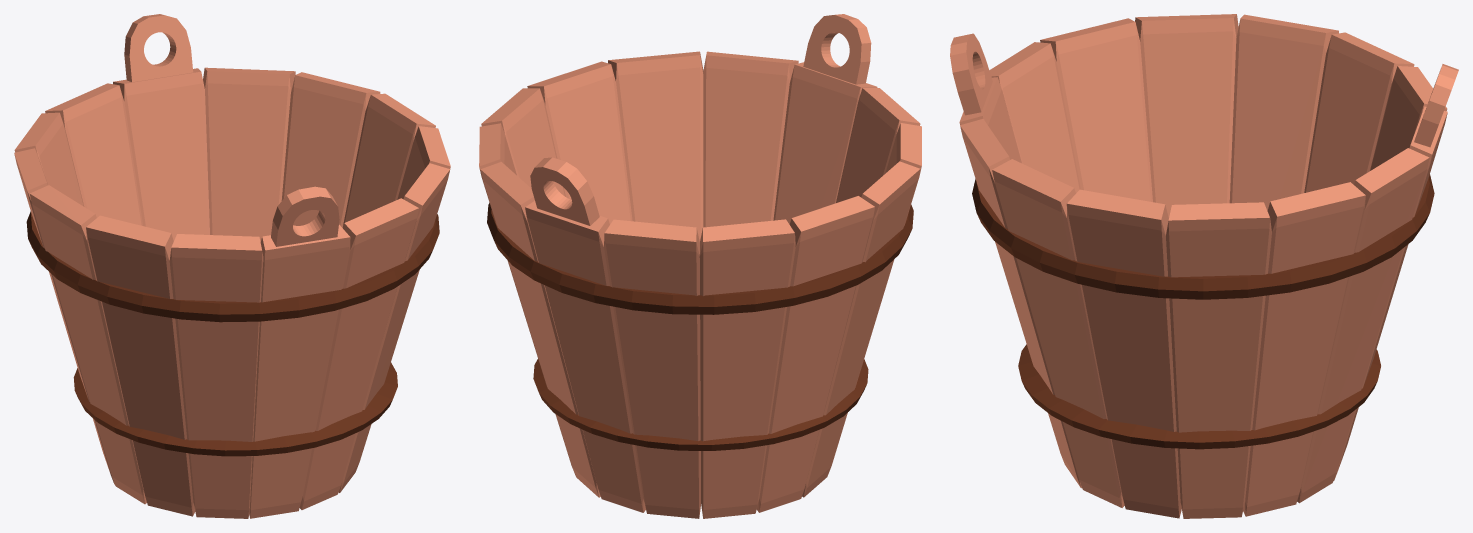
The model's file is Bucket_1.fbx.
3 renders of one model, left to right at view 1: azimuth 30°, elevation 25°; view 2: azimuth 150°, elevation 25°; view 3: azimuth 270°, elevation 25°, orthographic. The views are drawn at different scales.
Parts seen in each view (by area): view 1: Cube.076; view 2: Cube.076; view 3: Cube.076.
Boxes of the visible parts, left/top/right/bottom form: Cube.076: left=14, top=14, right=450, bottom=518; Cube.076: left=479, top=14, right=921, bottom=518; Cube.076: left=950, top=14, right=1458, bottom=518.
Bounding box in the file's own units: 822 × 764 × 863.
